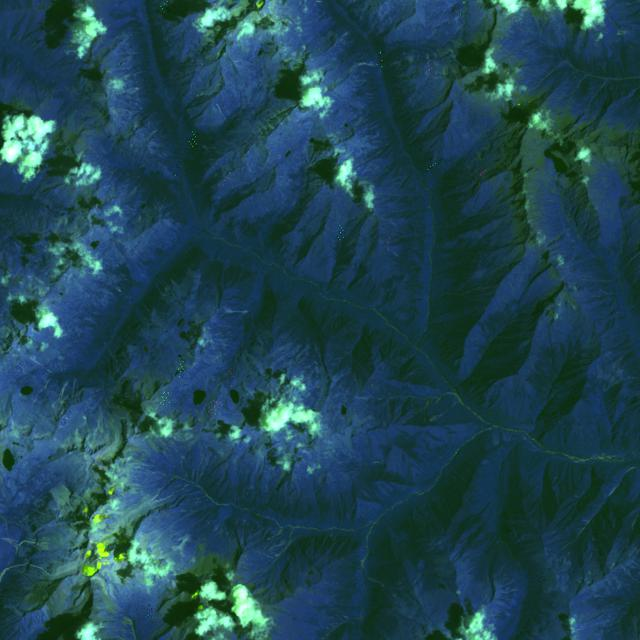landslides: (334, 60, 380, 86), (130, 447, 159, 468), (544, 227, 571, 248), (275, 526, 292, 556), (363, 565, 384, 588), (379, 239, 399, 257), (162, 218, 181, 236), (55, 381, 68, 407), (32, 508, 58, 521), (216, 103, 230, 126), (217, 306, 247, 314), (585, 231, 601, 244), (0, 537, 17, 549), (267, 528, 281, 542), (269, 539, 284, 552), (500, 578, 515, 590), (496, 588, 521, 595), (259, 527, 271, 541), (399, 176, 408, 189)
